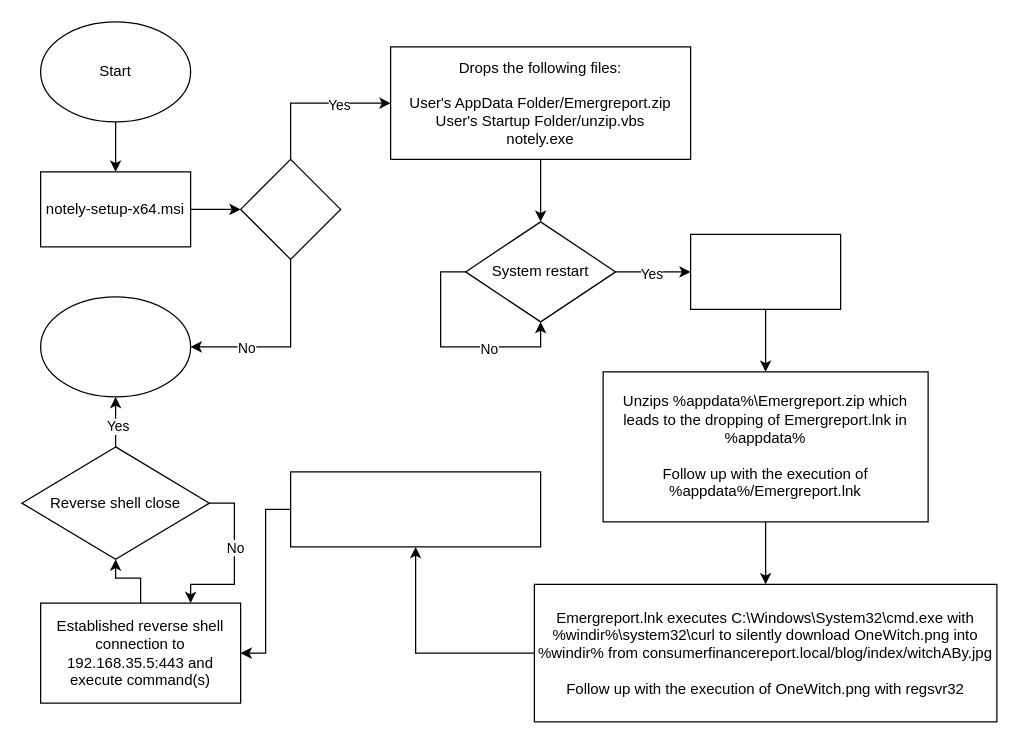
This 1019x754 diagram has some shape labels left out. Each missing label, with the box of its shape:
End: (39, 296, 191, 397)
Execute: (239, 158, 341, 259)
Locate shellcode in resource, XOR decrypt it with key (0x37) and executes it: (289, 471, 541, 547)
unzip.vbs gets executed: (689, 233, 841, 309)
